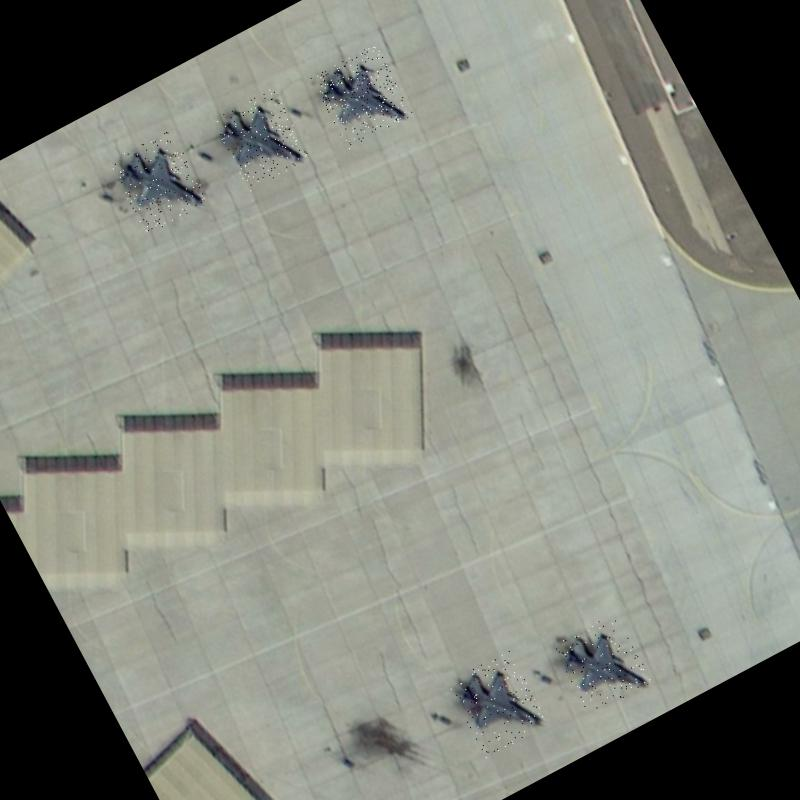A5: (446, 648, 549, 758), (310, 43, 413, 149), (108, 128, 209, 235), (210, 87, 312, 192), (552, 612, 653, 715)
